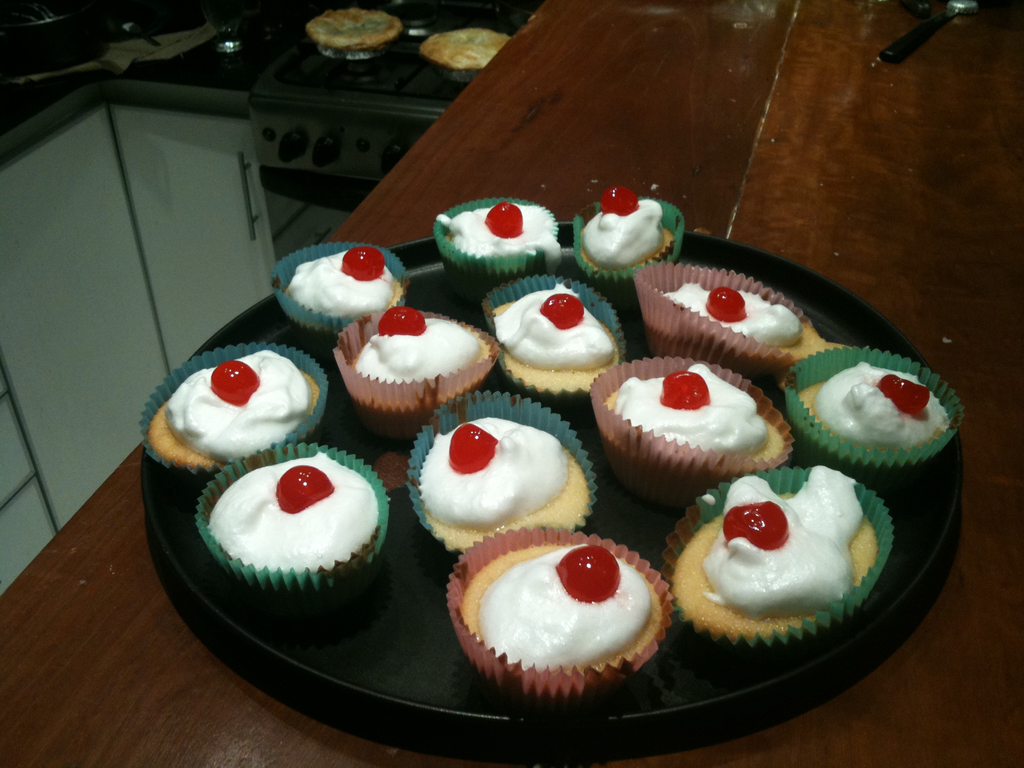cake: (141, 184, 966, 700)
